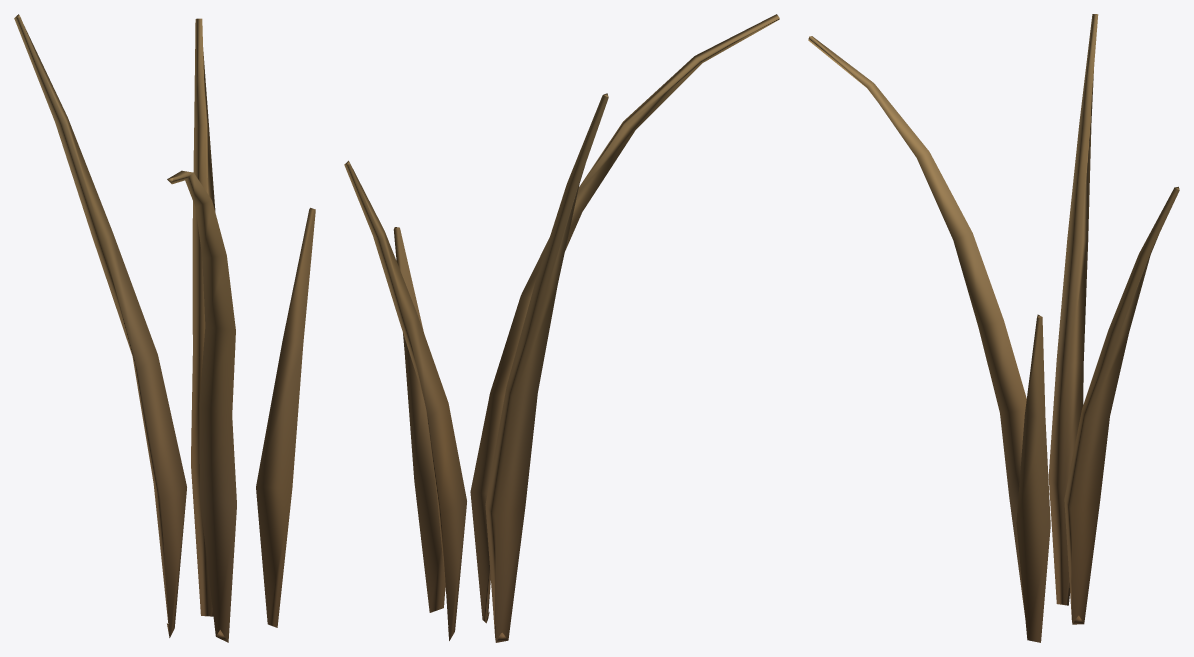
The model's file is trees-grasses-dry-grass-blades_v1.glb.
3 renders of one model, left to right at view 1: azimuth 30°, elevation 25°; view 2: azimuth 150°, elevation 25°; view 3: azimuth 270°, elevation 25°, orthographic. The views are drawn at different scales.
Parts seen in each view (by area): view 1: Dry Grass Blades_v1; view 2: Dry Grass Blades_v1; view 3: Dry Grass Blades_v1.
Boxes of the visible parts, x1,y1,x2,y2 form: Dry Grass Blades_v1: (14,14,315,642); Dry Grass Blades_v1: (344,14,779,642); Dry Grass Blades_v1: (808,14,1179,642).
Size of the model in its own units: 0.2775 by 0.6 by 0.3752.
